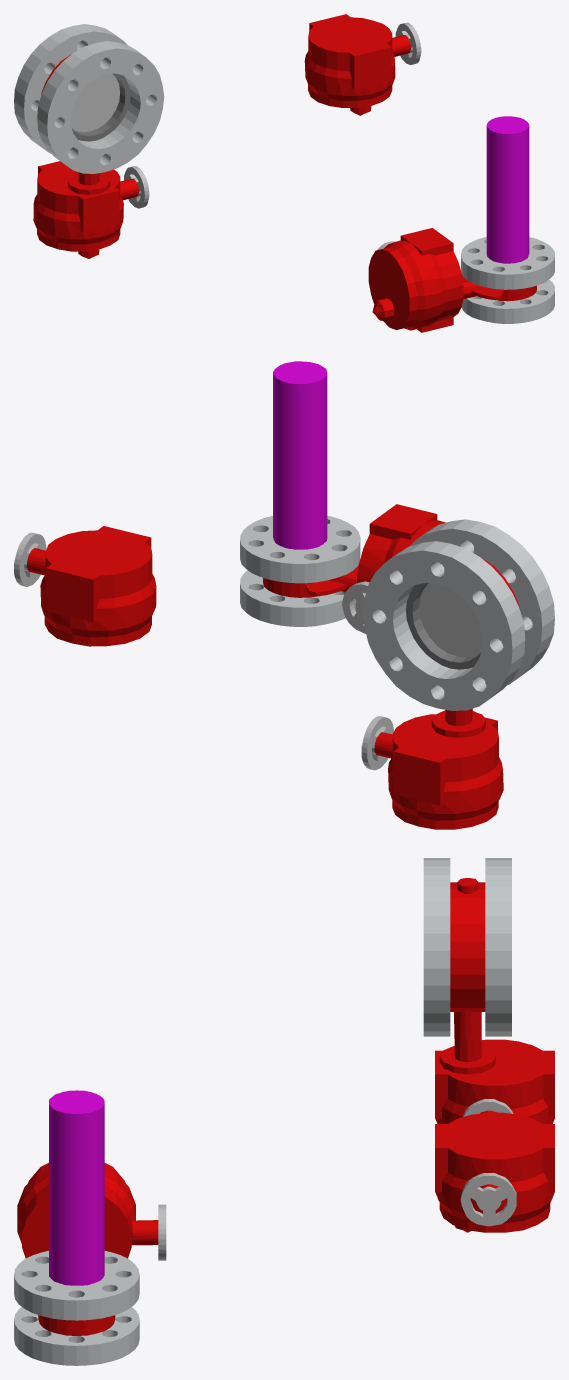
3 renders of one model, top to bottom at view 1: azimuth 30°, elevation 25°; view 2: azimuth 150°, elevation 25°; view 3: azimuth 270°, elevation 25°, orthographic. The views are drawn at different scales.
Size of the model in its own units: 0.9472 by 0.5394 by 0.8619.
